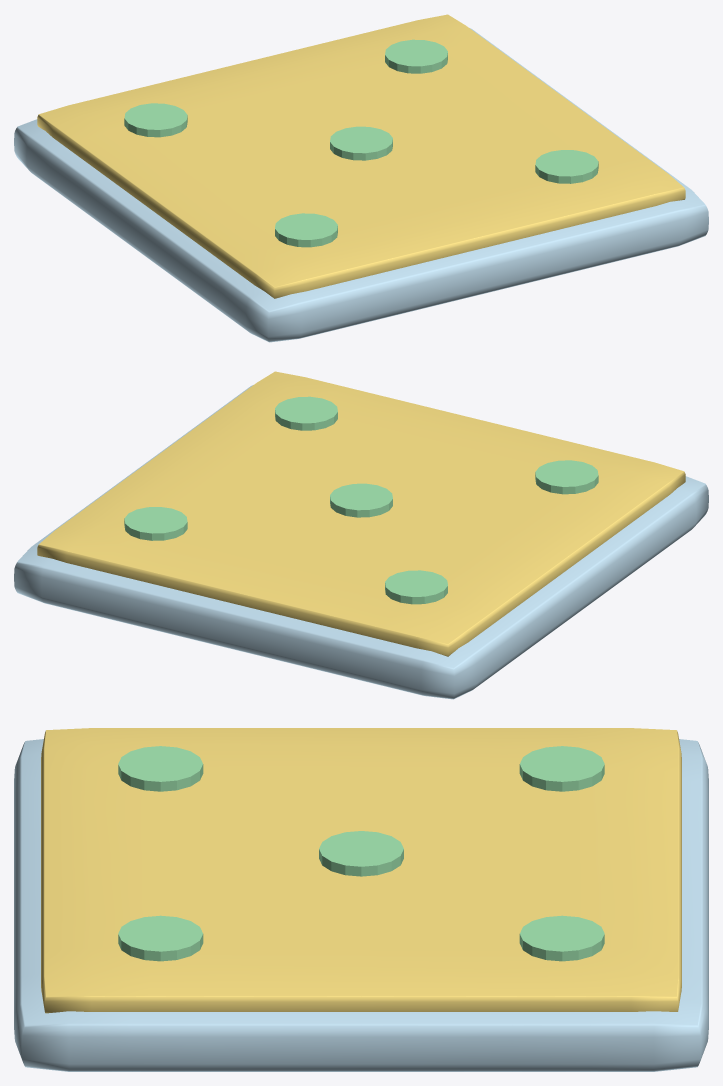
File: DiceDashTile.glb
3 renders of one model, top to bottom at view 1: azimuth 30°, elevation 25°; view 2: azimuth 150°, elevation 25°; view 3: azimuth 270°, elevation 25°, orthographic. The views are drawn at different scales.
Visible parts, largest first — view 1: Top, Base, Icon; view 2: Top, Base, Icon; view 3: Top, Base, Icon.
Boxes of the visible parts, x1,y1,x2,y2 form: Top: (37, 14, 685, 298); Base: (14, 28, 708, 342); Icon: (124, 39, 598, 247); Top: (37, 371, 685, 656); Base: (14, 385, 708, 699); Icon: (124, 396, 598, 604); Top: (41, 728, 681, 1013); Base: (14, 739, 708, 1071); Icon: (118, 746, 604, 961).
Bounding box in the file's own units: 9 × 1.24 × 9.
